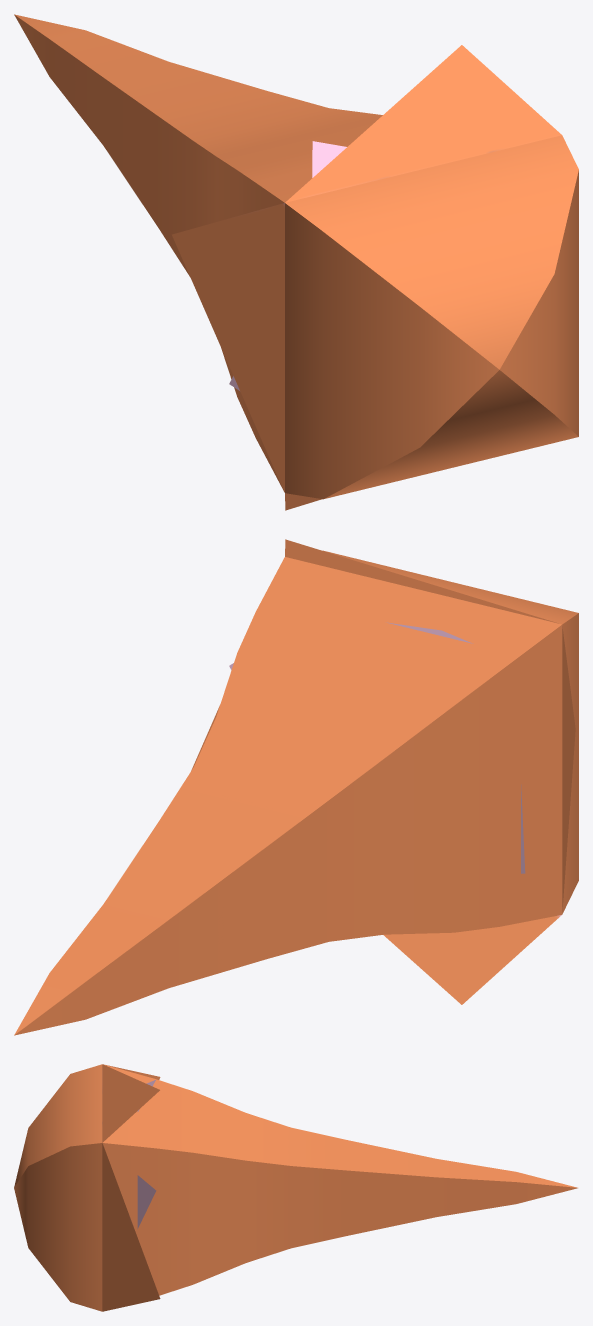
The model's file is Laser.obj.
The picture shows the model from 3 angles, top to bottom: view 1: azimuth 30°, elevation 25°; view 2: azimuth 150°, elevation 25°; view 3: azimuth 270°, elevation 25°; orthographic projection. The views are drawn at different scales.
Visible parts, largest first — view 1: pCube2; view 2: pCube2; view 3: pCube2.
Part boxes in pixels (bbox=[...]): pCube2: bbox=[14, 14, 578, 510]; pCube2: bbox=[14, 539, 578, 1035]; pCube2: bbox=[14, 1064, 577, 1311].
Bounding box in the file's own units: 0.2908 × 0.2908 × 0.6054.
1 material, 1 textured.
